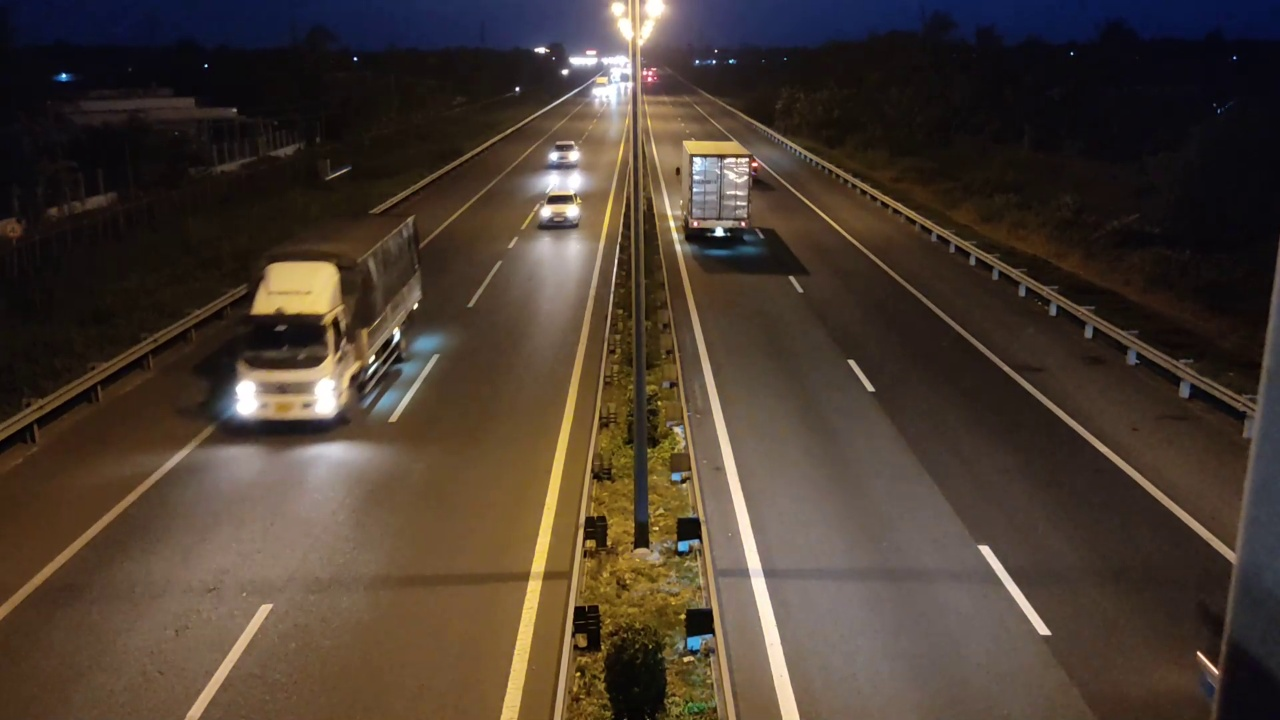car: (538, 189, 583, 229), (545, 140, 581, 170)
truck: (219, 211, 424, 434), (680, 140, 756, 241)
